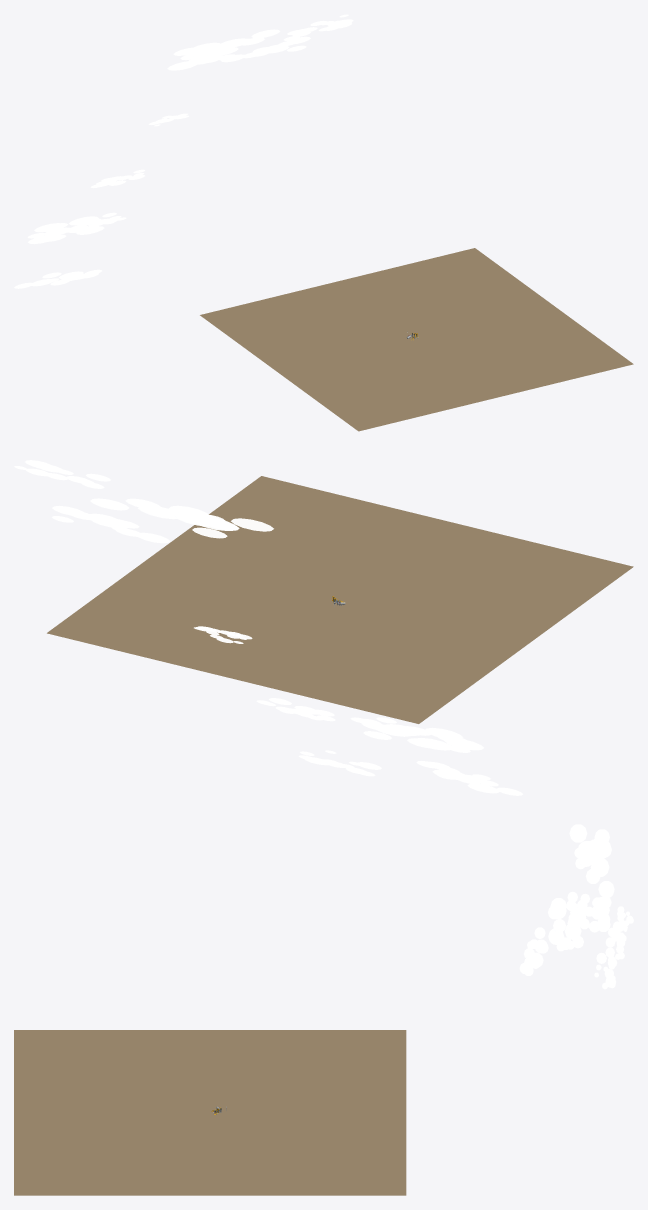
The model's file is world.glb.
3 renders of one model, top to bottom at view 1: azimuth 30°, elevation 25°; view 2: azimuth 150°, elevation 25°; view 3: azimuth 270°, elevation 25°, orthographic. The views are drawn at different scales.
Visible parts, largest first — view 1: Yard, Clouds; view 2: Yard, Clouds; view 3: Yard, Clouds.
Boxes of the visible parts, <box> form: Yard: <box>200,248,633,431</box>; Clouds: <box>14,14,353,288</box>; Yard: <box>47,476,633,723</box>; Clouds: <box>14,460,522,795</box>; Yard: <box>14,1030,406,1195</box>; Clouds: <box>519,824,633,989</box>.
Size of the model in its own units: 885 by 402 by 948.
